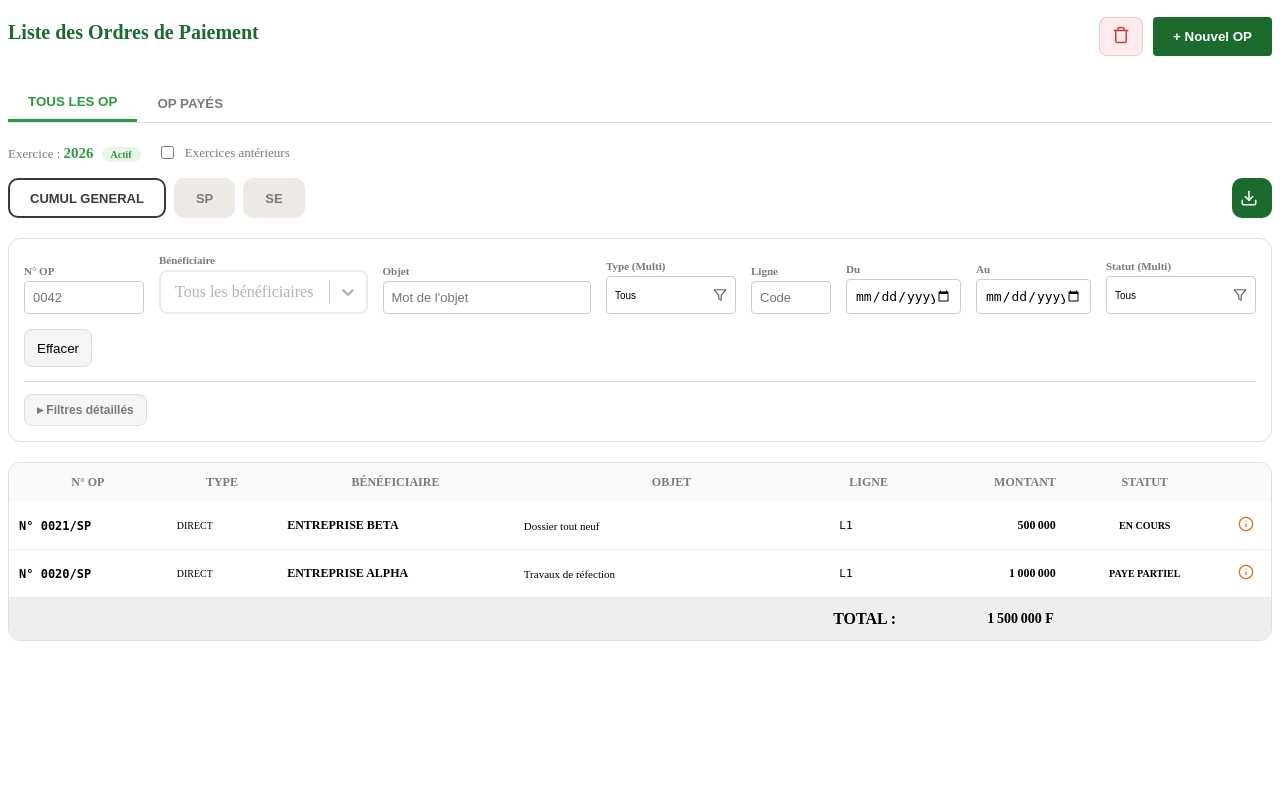
it: Liste OP — l'aperçu : bordereaux et règlements › le bordereau du CF est affiché sous son étape
Click the button titled "Suivi détaillé".
click(1246, 574)  # box [1234,560,1258,587]
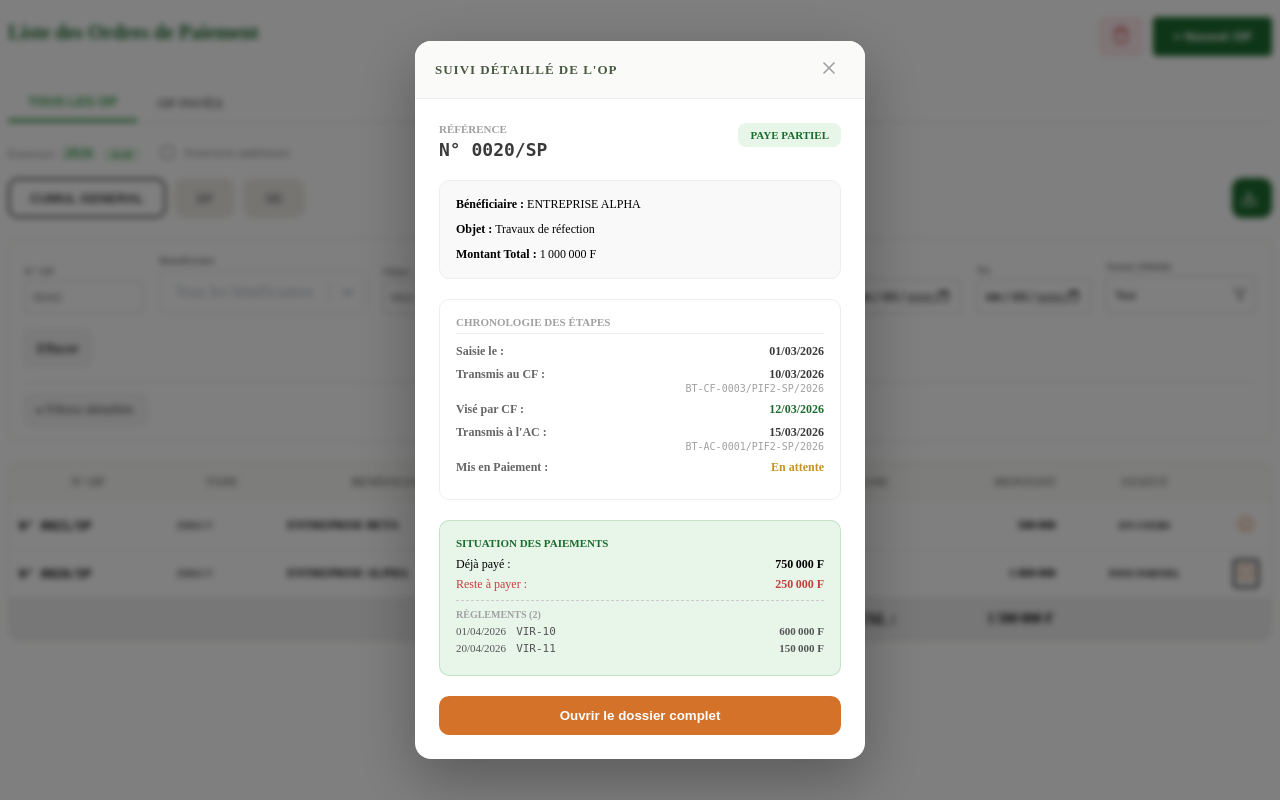
expect the text "BT-CF-0003/PIF2-SP/2026" is shown: met, box [686,383,824,394]
